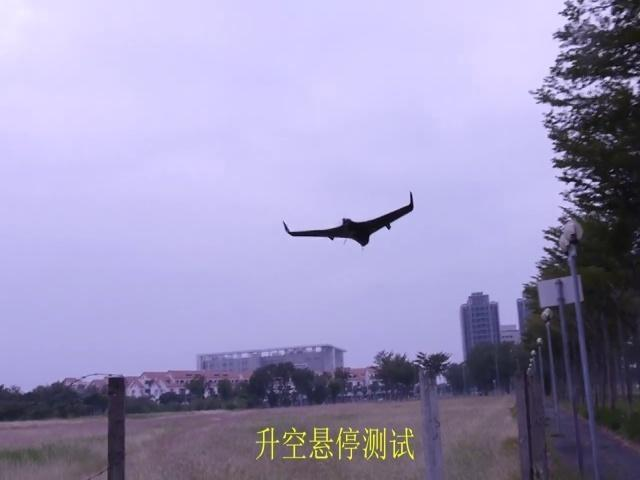Airplane: (282, 191, 414, 251)
